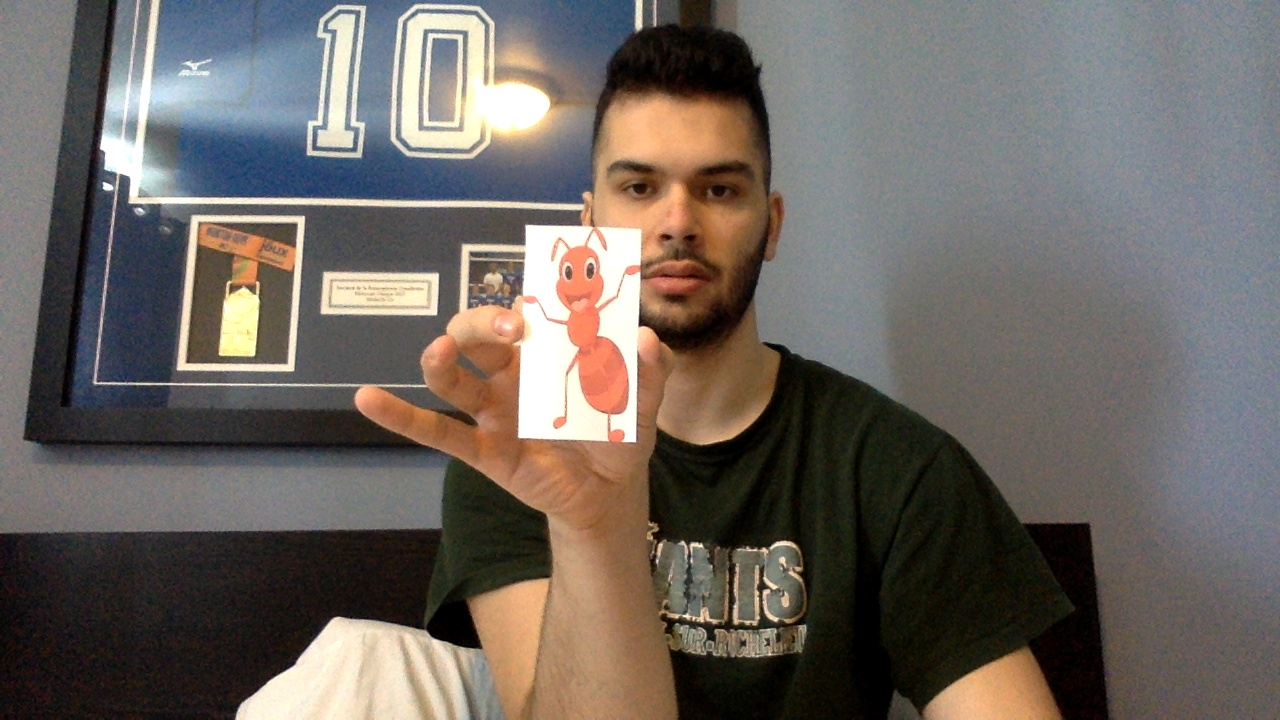Happy: (524, 225, 639, 444)
